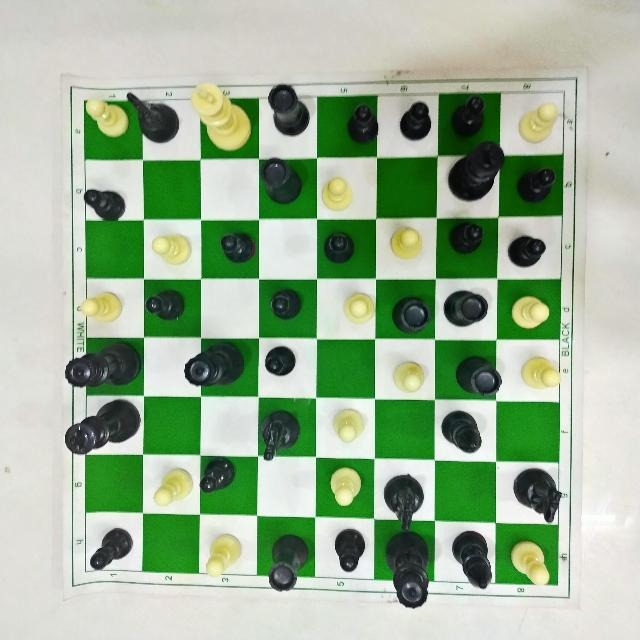black-bishop: (448, 528, 497, 593), (439, 406, 488, 458)
black-king: (58, 398, 141, 462), (443, 135, 509, 203)
black-knight: (124, 88, 182, 145), (510, 463, 562, 526), (379, 467, 429, 526), (258, 405, 304, 465)
black-pawn: (84, 521, 135, 575), (80, 181, 128, 230), (514, 158, 558, 207), (342, 98, 381, 148), (329, 528, 367, 579), (196, 448, 235, 497), (443, 216, 491, 255), (448, 90, 486, 139), (503, 229, 546, 271), (218, 224, 260, 266), (397, 102, 438, 145), (141, 285, 189, 321), (270, 283, 308, 321), (318, 229, 358, 264), (263, 340, 301, 376)
black-queen: (59, 334, 146, 393), (383, 530, 430, 607), (182, 336, 246, 390)
black-rook: (262, 528, 312, 593), (265, 79, 313, 141), (452, 351, 506, 403), (439, 282, 492, 330), (258, 156, 306, 206), (390, 290, 430, 336)
white-king: (187, 77, 257, 155)
white-pawn: (82, 91, 134, 144), (202, 528, 250, 581), (505, 534, 549, 589), (149, 463, 194, 513), (514, 97, 558, 147), (327, 463, 369, 512), (517, 350, 564, 393), (391, 353, 432, 401), (319, 170, 361, 215), (328, 403, 370, 448), (81, 288, 129, 326), (387, 222, 426, 267), (150, 231, 195, 267), (508, 292, 549, 330), (340, 289, 375, 327)
